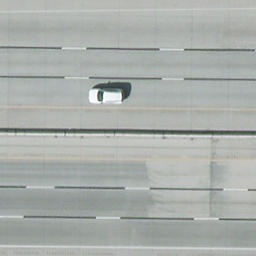car: (87, 88, 126, 105)
